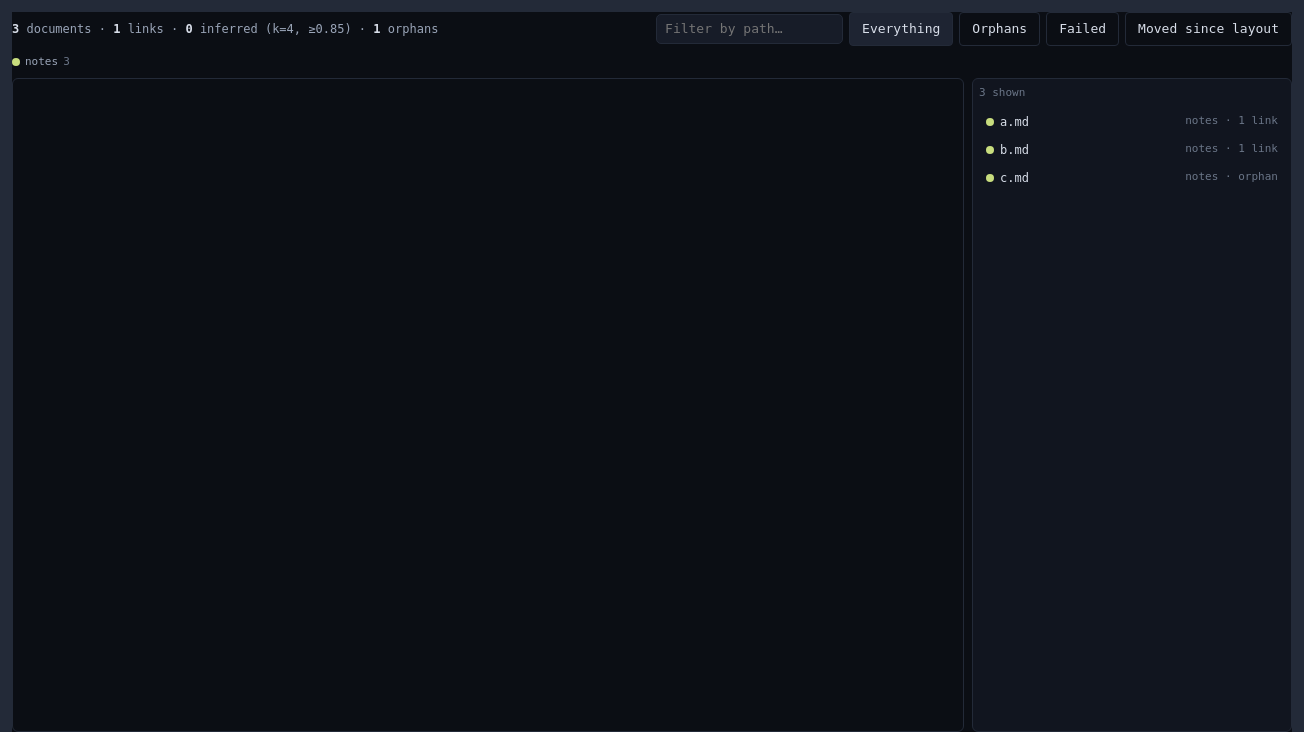
KnowledgeGraph › the orphan filter finds the document connected to nothing
The image size is (1304, 732).
Click the button "Orphans" at (1000, 29), box [959,12,1040,46]
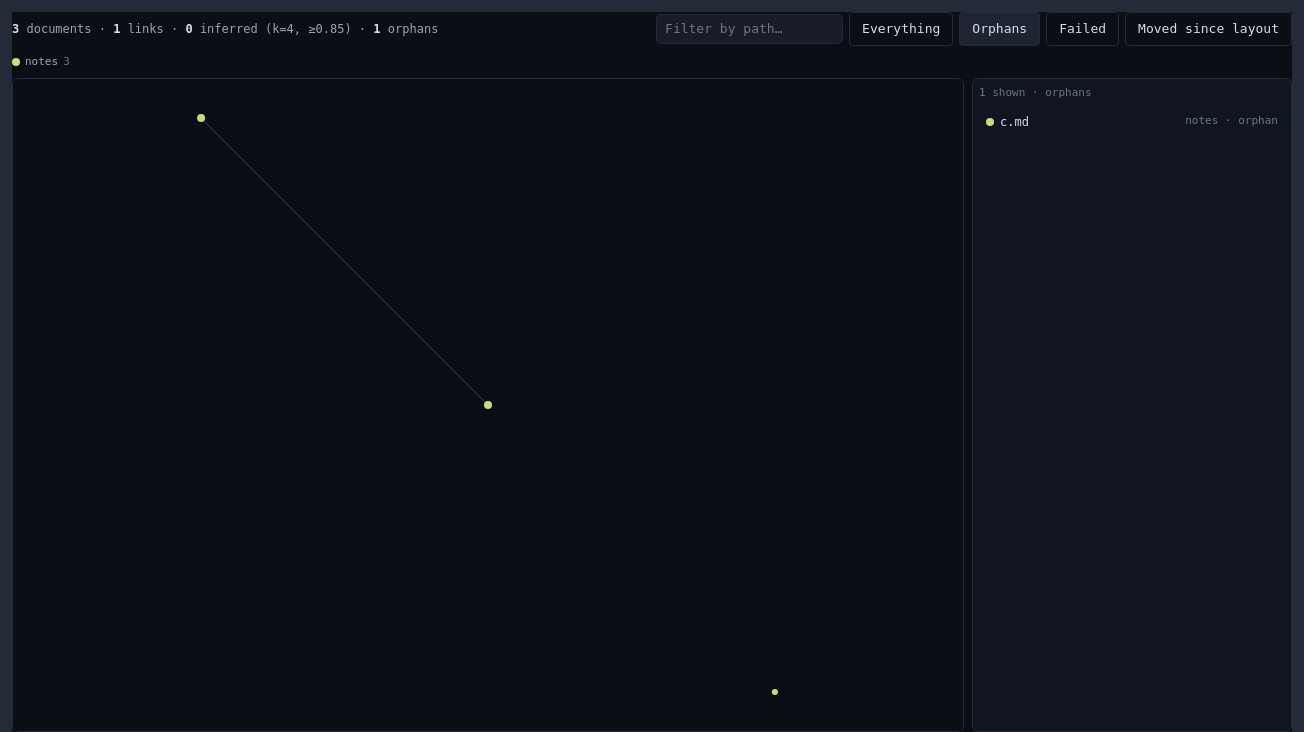
expect the button titled "c.md" is shown: met, box [979,108,1285,136]
expect the button titled "a.md" is gone: met
